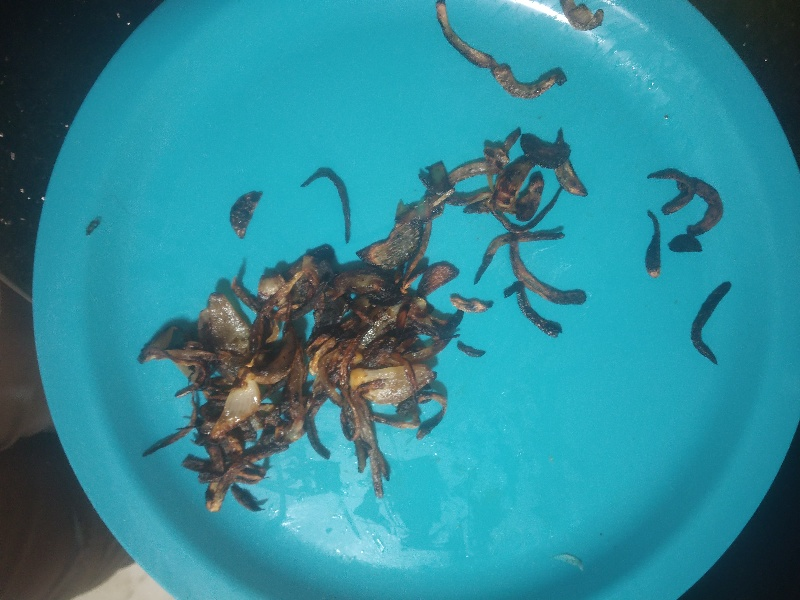onion_burnt: (273, 229, 459, 483), (151, 295, 315, 523), (458, 129, 593, 336), (374, 181, 457, 291), (653, 162, 722, 255), (691, 276, 733, 367), (225, 192, 262, 240), (642, 205, 661, 286)
